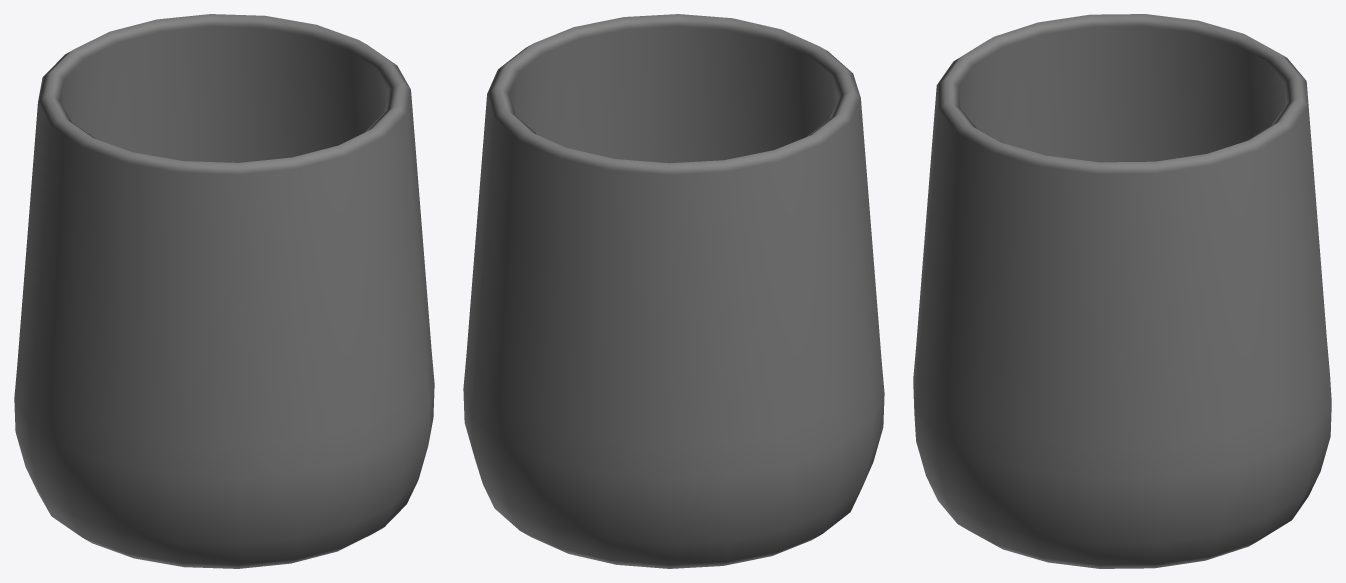
The picture shows the model from 3 angles, left to right: view 1: azimuth 30°, elevation 25°; view 2: azimuth 150°, elevation 25°; view 3: azimuth 270°, elevation 25°; orthographic projection.
Parts seen in each view (by area): view 1: Water_Glass_2; view 2: Water_Glass_2; view 3: Water_Glass_2.
Part boxes in pixels (x1,y1,x2,y2): Water_Glass_2: (14,14,434,568); Water_Glass_2: (463,14,884,568); Water_Glass_2: (913,14,1331,568).
Bounding box in the file's own units: 0.0694 × 0.0746 × 0.0694.
1 material, 1 textured.
